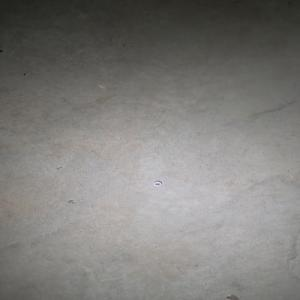Nut: (152, 181, 162, 187)
